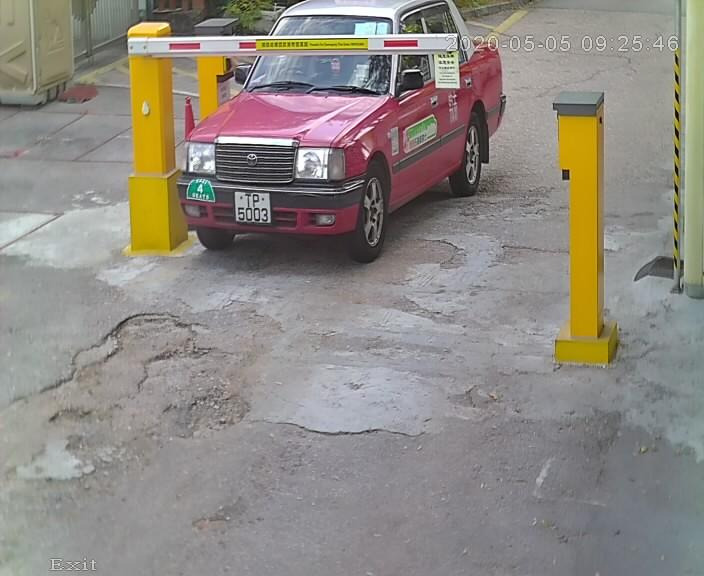Car: (171, 1, 517, 276)
License Plate: (227, 183, 279, 230)
